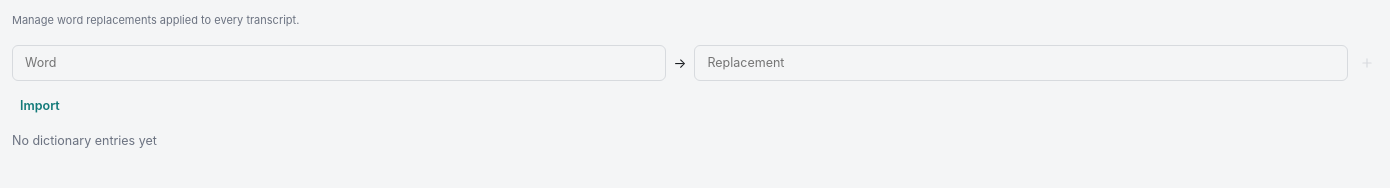
Test case: DictionarySection › adding a word flashes an 'Added' confirmation on the add button (user-reported: silent otherwise)
Expected: the text "No dictionary entries yet" is shown, [12,133,157,148]
Type "cloud.md" into the field labelled "Word".
click(339, 63); type("cloud.md")  # box [12,44,666,81]
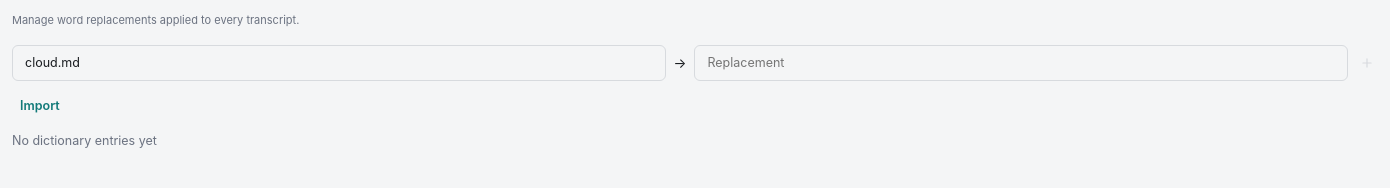
Type "CLAUDE.md" into the field labelled "Replacement".
click(1021, 63); type("CLAUDE.md")  # box [694,44,1348,81]
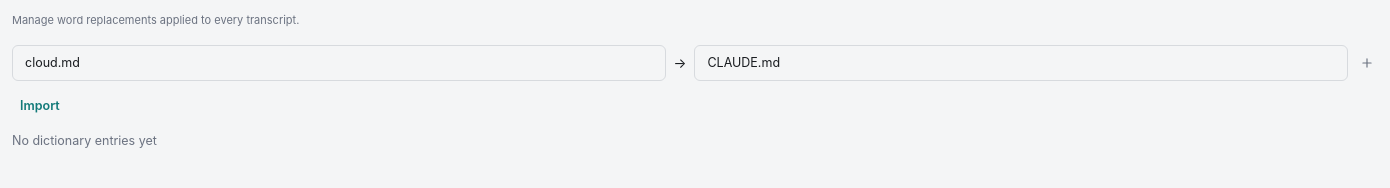
Click the button named "Add word".
click(1367, 63)  # box [1356,52,1378,74]
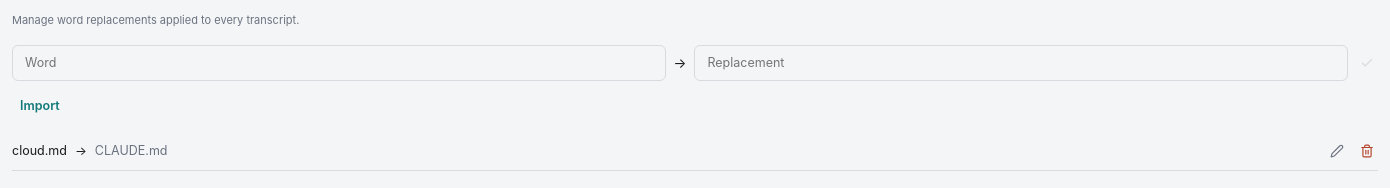
Now the button named "Added" is shown, box [1356,52,1378,74]
